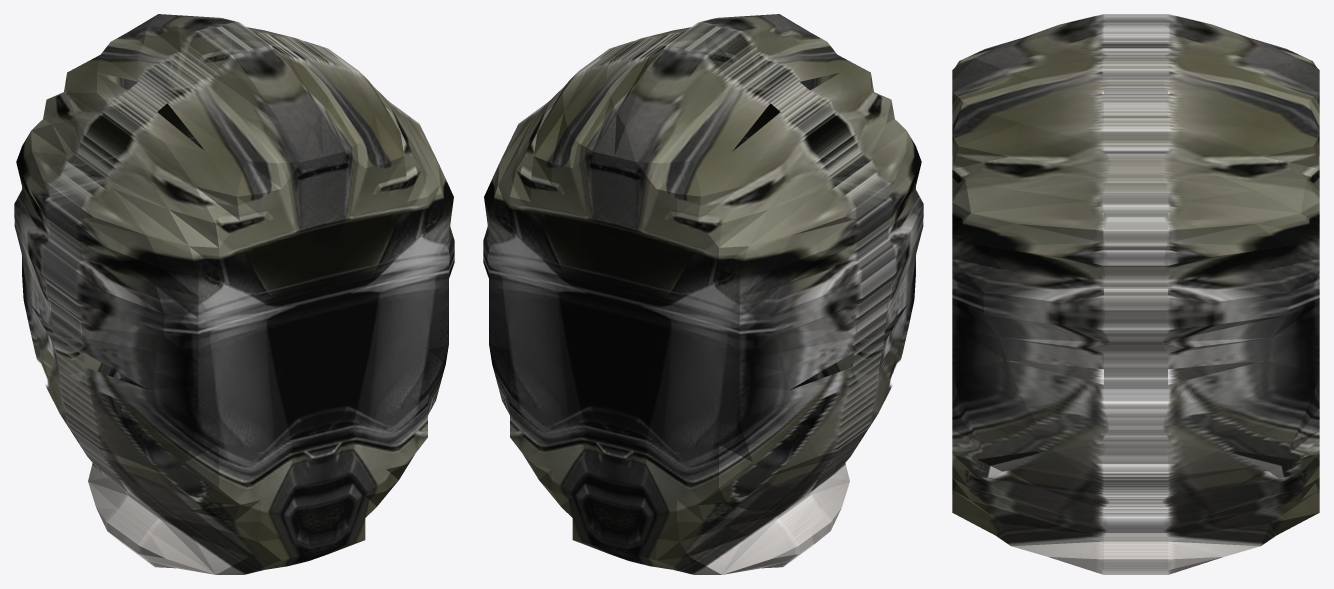
Rendered from oxford-nomad-adventure-helmet-063.glb.
3 renders of one model, left to right at view 1: azimuth 30°, elevation 25°; view 2: azimuth 150°, elevation 25°; view 3: azimuth 270°, elevation 25°, orthographic. The views are drawn at different scales.
Visible parts, largest first — view 1: world; view 2: world; view 3: world.
Part boxes in pixels (x1,y1,x2,y2): world: (14,14,454,574); world: (483,14,923,574); world: (952,14,1319,574).
Size of the model in its own units: 0.7398 by 1 by 0.64.
Materials: 1 (1 with a texture image).
